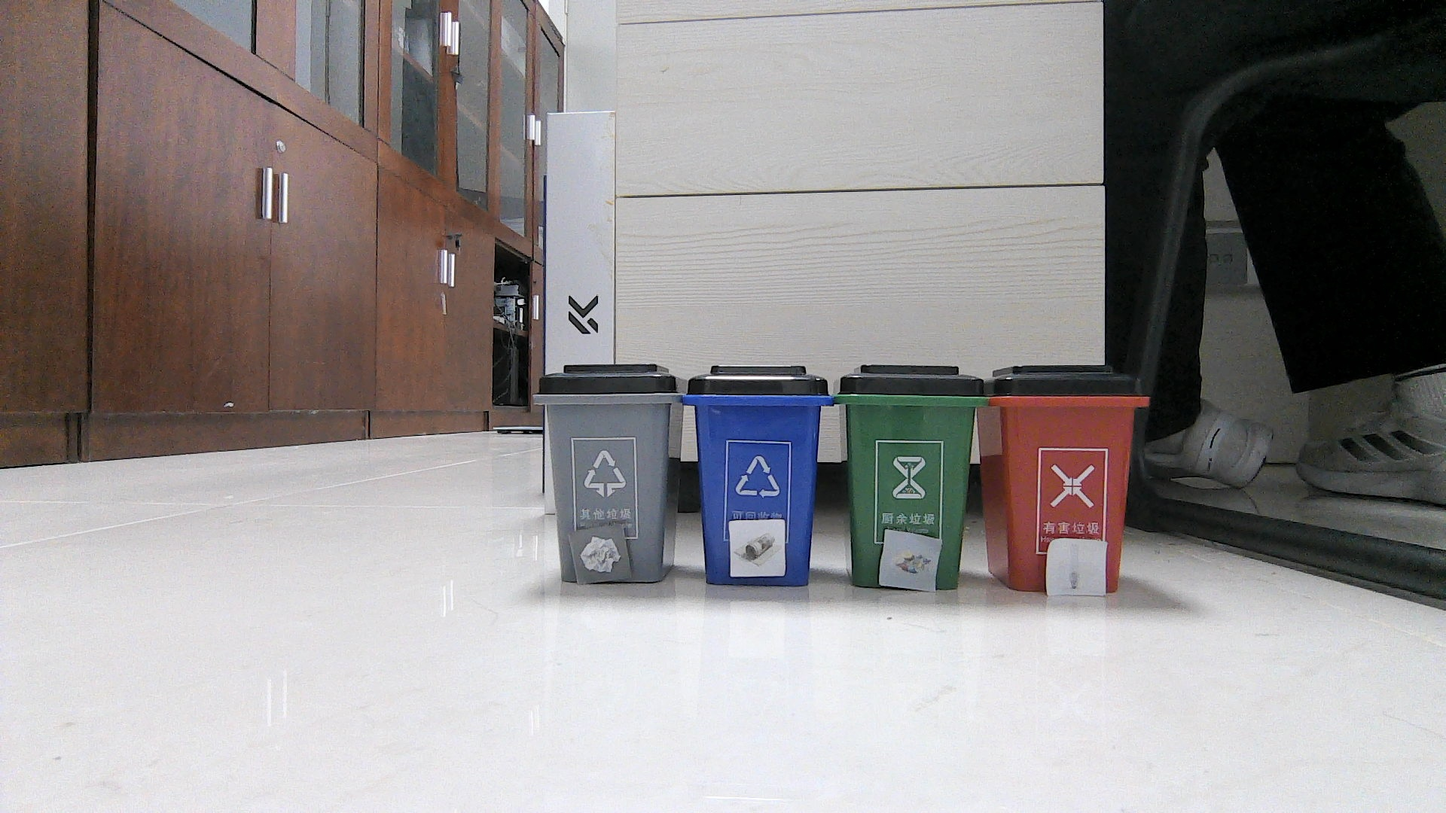hazardous_trash: (885, 535, 936, 587), (1050, 542, 1100, 593)
other_trash: (572, 534, 623, 580)
recyclable_trash: (732, 523, 780, 572)
